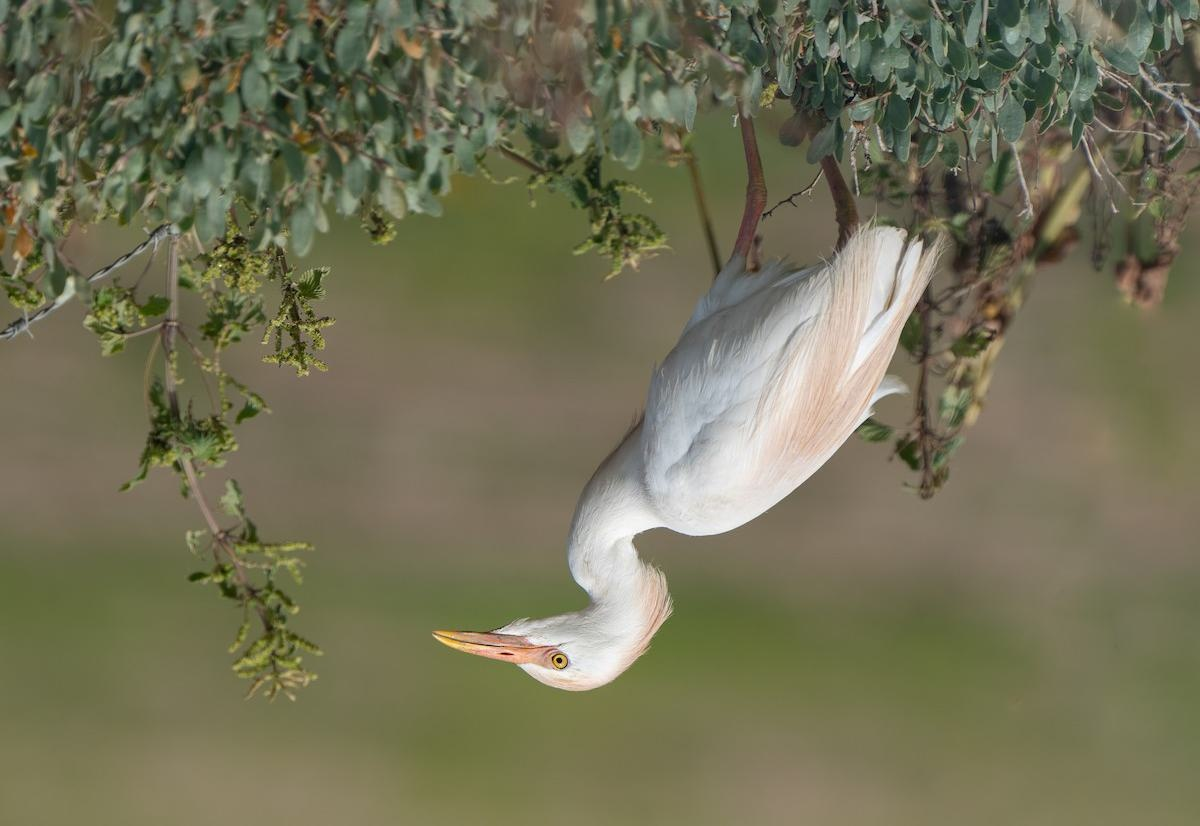egret: (417, 91, 975, 713)
